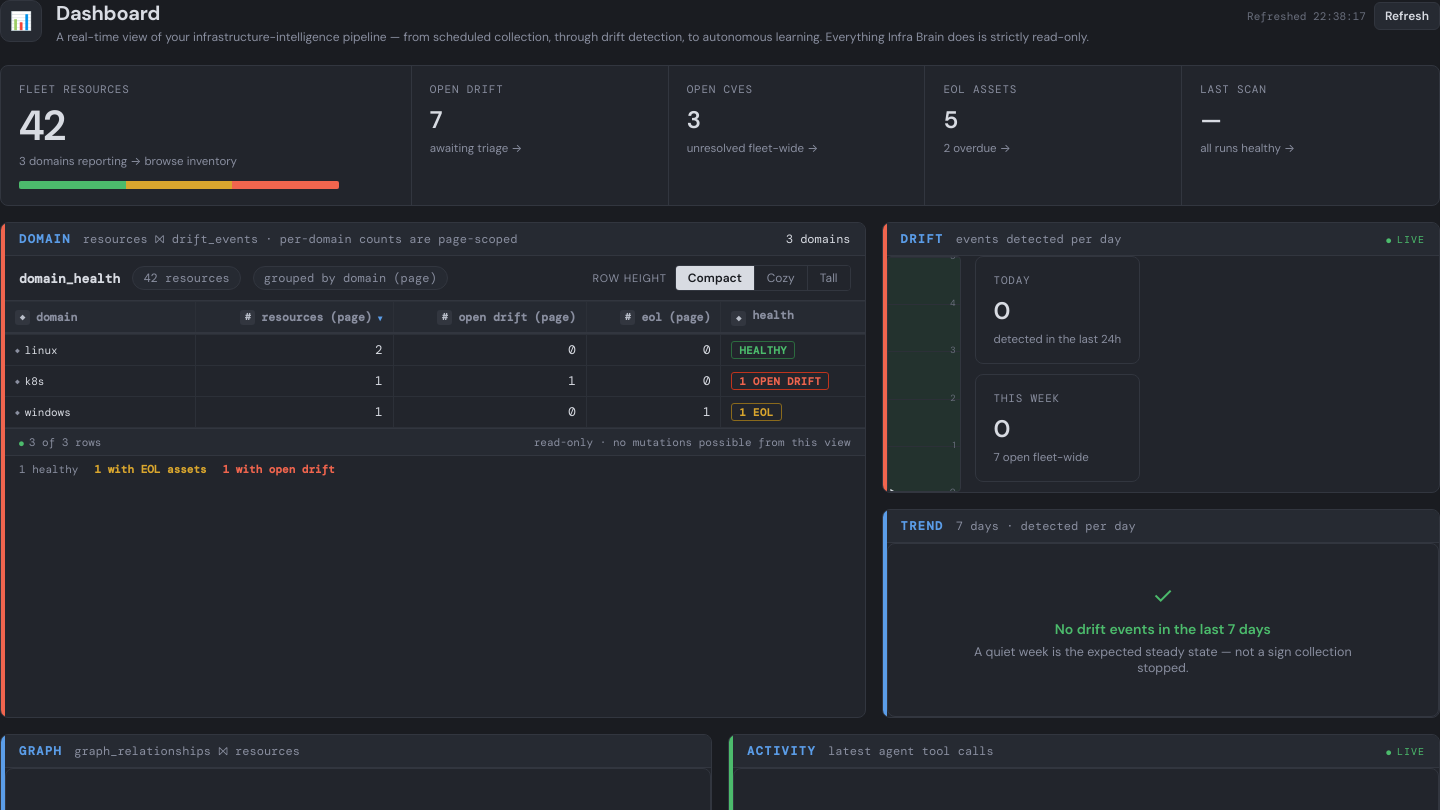
Home page — Phase 2 design-system rebuild › builds the DOMAIN table from resources ⨝ drift_events and navigates on row click
This screenshot has width=1440, height=810.
Expected: the text "linux" is shown, [15,343,58,357]
Expected: the text "1 EOL" is shown, [731,403,782,421]
Click the text "windows".
click(43, 412)  # box [15,405,71,419]
(page scrolled)
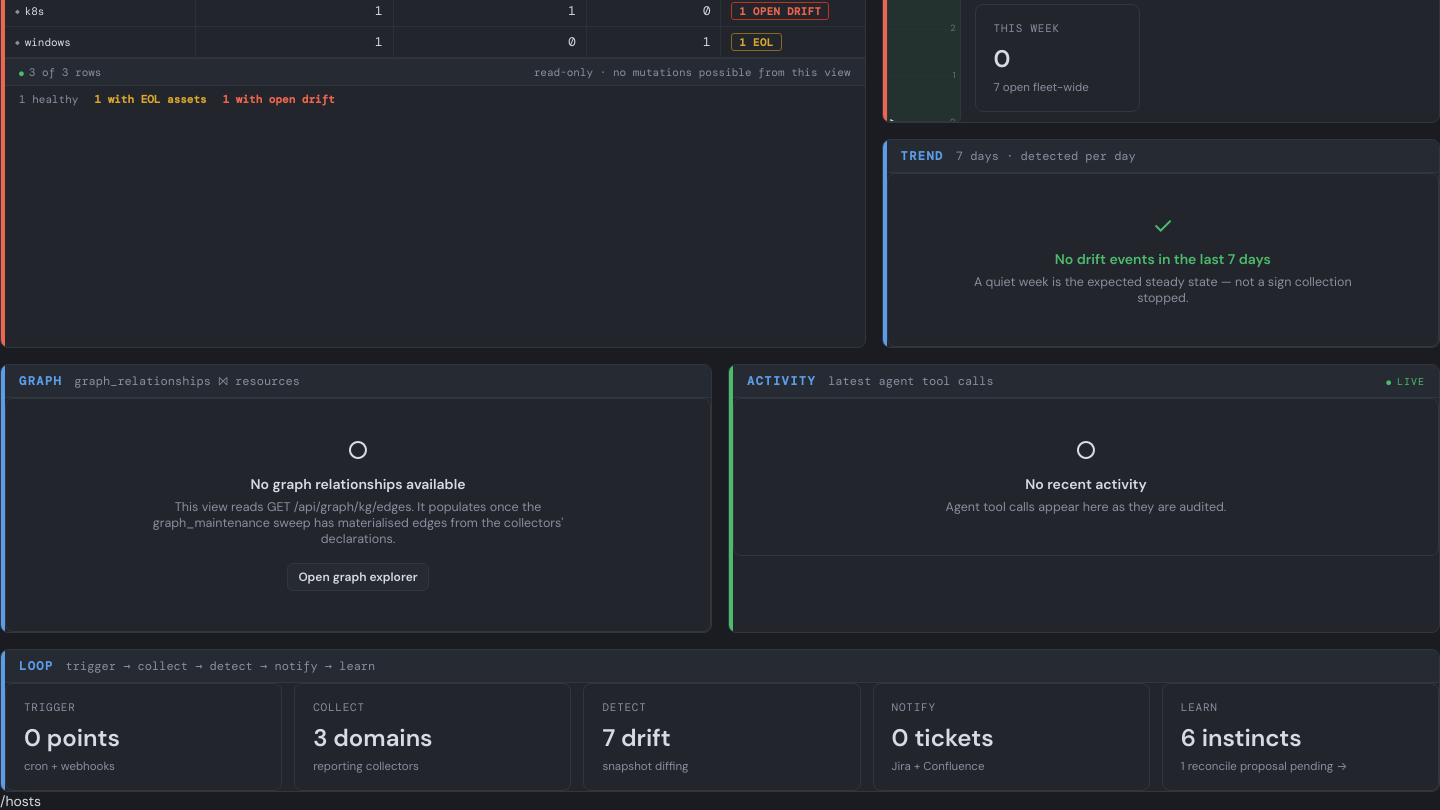
Result: the text with test id "pathname" reads "/hosts" at [0,792,41,809]
